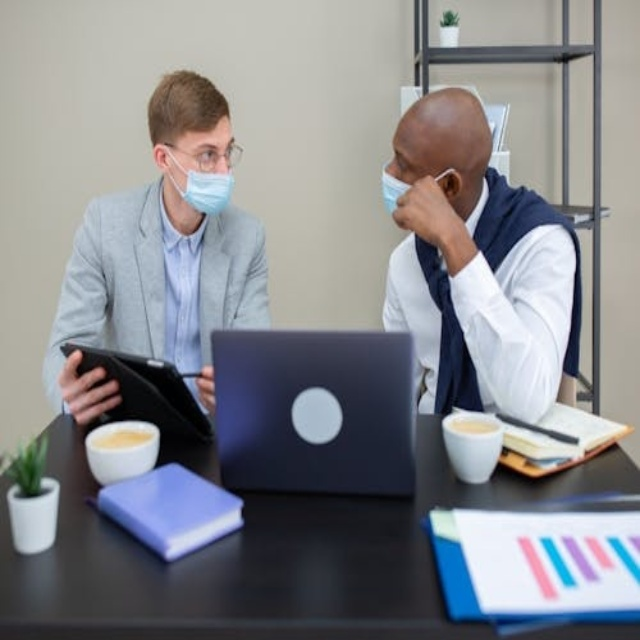Gafas: (164, 140, 244, 172)
Mascara: (163, 149, 236, 216), (382, 163, 421, 216)
Sin_gafas: (388, 147, 413, 176)
Sin_guantes: (392, 174, 470, 262), (57, 347, 120, 423), (195, 364, 216, 415)
